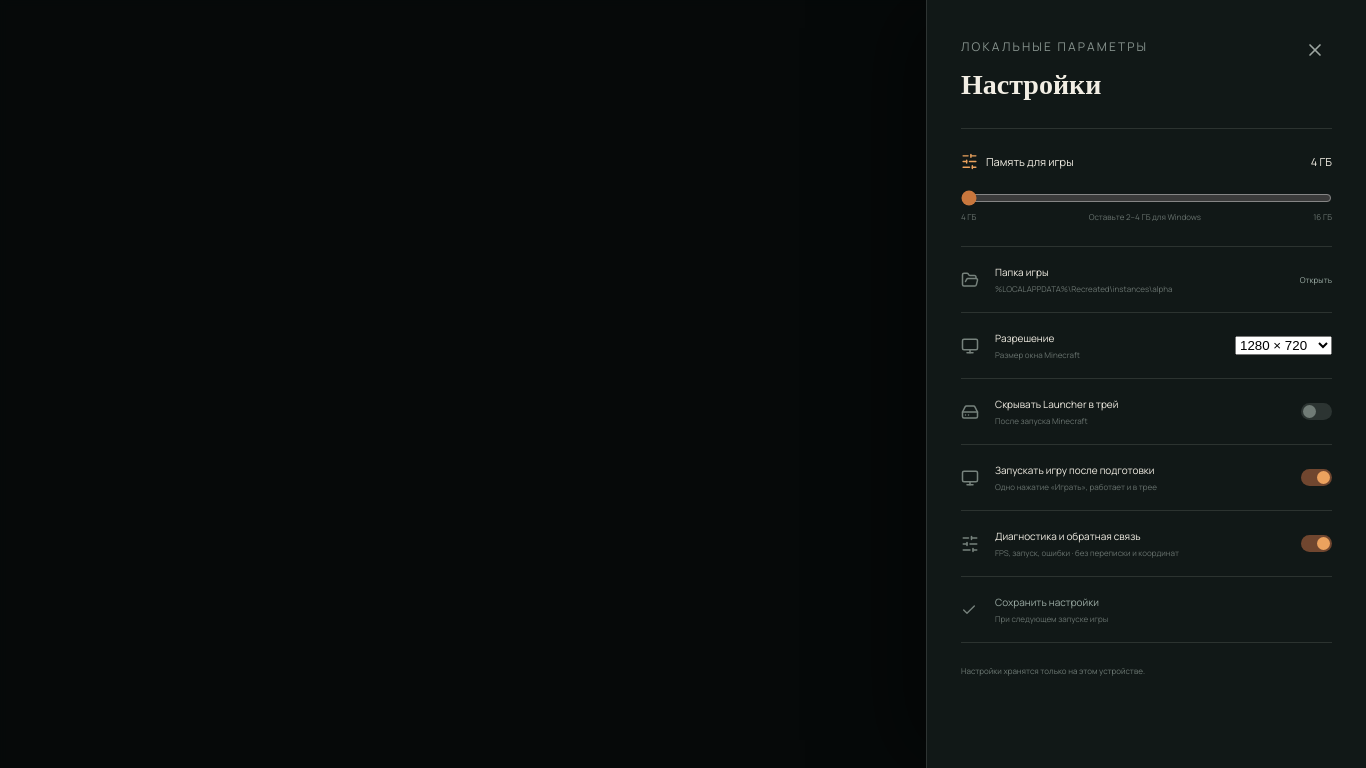
Scenario: does not claim saved settings when native storage fails
This screenshot has width=1366, height=768.
Expected: the slider named "Память для игры" is enabled, [961,190,1332,206]
Click the text "Сохранить настройки" at (1047, 602), box [995,595,1099,609]
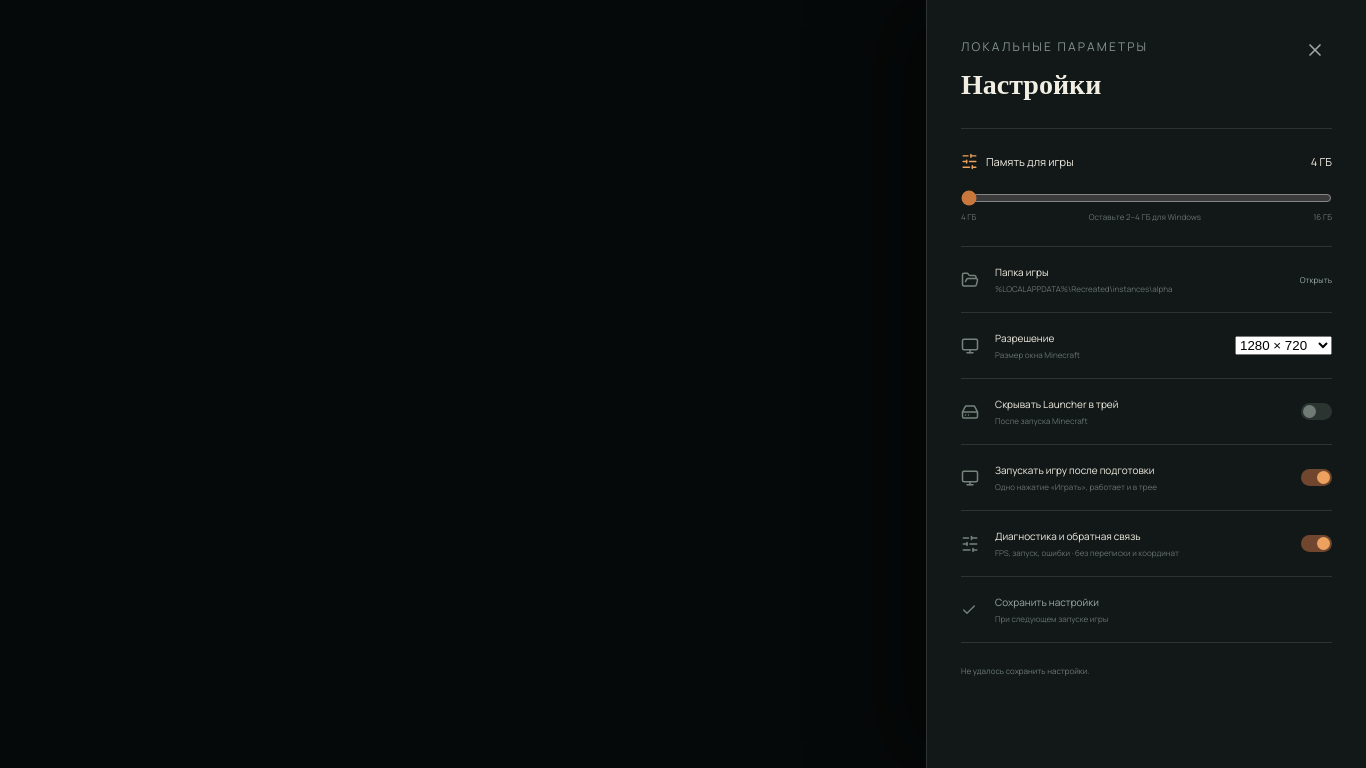
Expected: the message shows "Не удалось сохранить", [961,665,1089,676]
